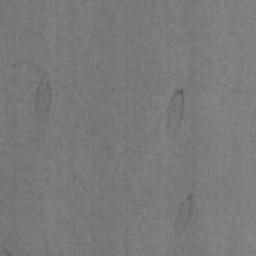Water spot: (6, 59, 54, 124), (164, 87, 189, 143), (174, 191, 197, 236), (0, 241, 15, 256)
